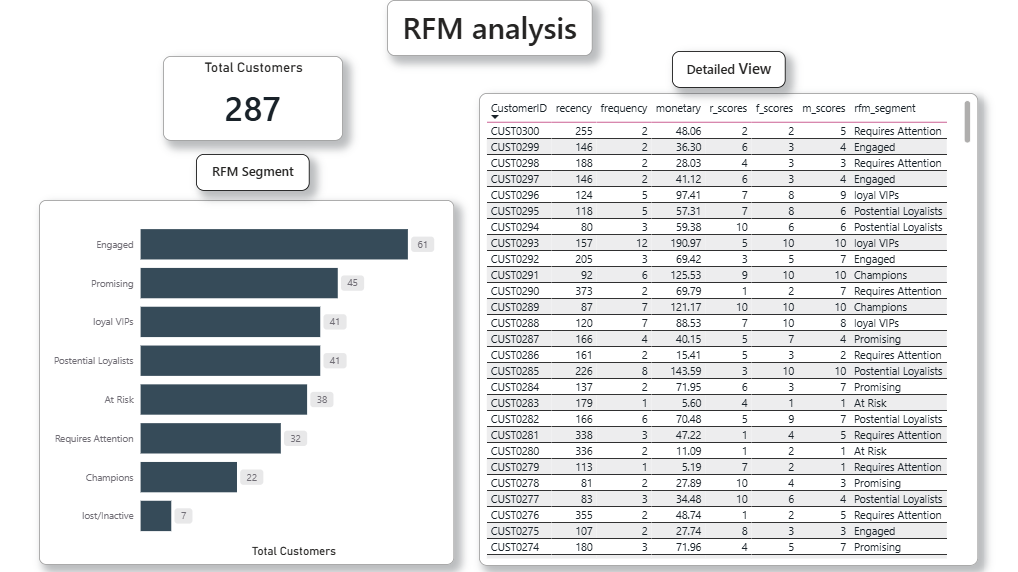

The page's visual inventory and layout, read from the dashboard file:
{"tool":"powerbi","page":{"name":"Page 1","canvas":[1280,720],"ordinal":0},"visuals":[{"type":"cardVisual","title":"Total Customers","fields":{"Data":["Query1.Total Customers"]},"box":[52.5,63.8,223.8,106.2],"z":0},{"type":"clusteredBarChart","fields":{"Category":["Query1.rfm_segment"],"Y":["CountNonNull(Query1.CustomerID)"]},"box":[52.5,250,519.4,456.2],"z":1000},{"type":"tableEx","fields":{"Values":["Query1.CustomerID","Query1.recency","Query1.frequency","Query1.monetary","Query1.r_scores","Query1.f_scores","Query1.m_scores","Query1.rfm_segment"]},"box":[602.1,116.7,624.4,591.4],"z":2000},{"type":"textbox","box":[487.3,0,256.8,70],"z":3000},{"type":"textbox","box":[249,192.6,142,45.7],"z":4000},{"type":"textbox","box":[843.3,63.2,142,45.7],"z":5000}]}

Visuals, with their boxes in screenshot pixels (x1, y1, x2, y2), scaled from the page's 1280x720 canvas onto the 1018x572 screenshot:
"Total Customers" cardVisual: x1=42 y1=51 x2=220 y2=135
clusteredBarChart - Query1.rfm_segment x CountNonNull(Query1.CustomerID): x1=42 y1=199 x2=455 y2=561
tableEx - Query1.CustomerID x Query1.recency: x1=479 y1=93 x2=975 y2=563
textbox: x1=388 y1=0 x2=592 y2=56
textbox: x1=198 y1=153 x2=311 y2=189
textbox: x1=671 y1=50 x2=784 y2=87
